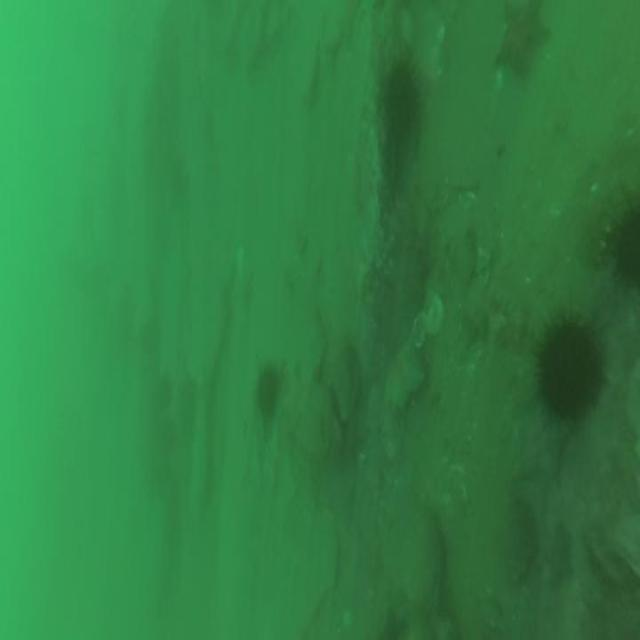echinus: (521, 291, 612, 433), (594, 178, 640, 301), (377, 51, 425, 142), (245, 351, 287, 426)
starfish: (494, 2, 555, 84)
